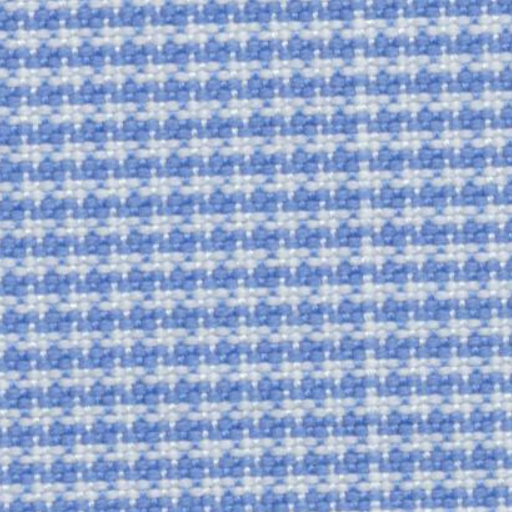TuoSha: (328, 6, 417, 494)
